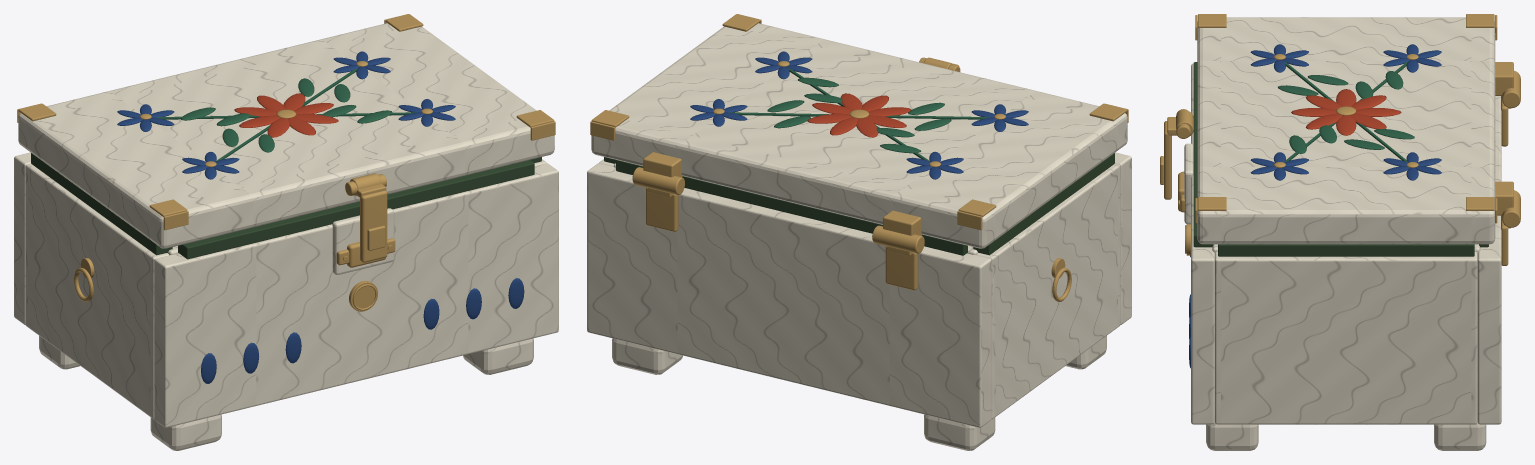
Rendered from india.glb.
3 renders of one model, left to right at view 1: azimuth 30°, elevation 25°; view 2: azimuth 150°, elevation 25°; view 3: azimuth 270°, elevation 25°, orthographic. The views are drawn at different scales.
Visible parts, largest first — view 1: Lid / polished slab, Marble / long wall, Marble / side wall, Mineral seam / long, Marble / long wall.001, Marble foot, Marble foot.002, Mineral seam / side, Marble / clasp seat, Latch / lifting hasp, Medallion / solid emblem, Marble foot.001; view 2: Marble / long wall.001, Lid / polished slab, Marble / side wall, Mineral seam / long.001, Marble / long wall, Marble foot.001, Marble foot.003, Mineral seam / side, Hinge / fixed mount, Hinge / fixed mount.001, Hinge / fixed barrel.001, Hinge / fixed barrel (+3 smaller); view 3: Lid / polished slab, Marble / side wall.001, Marble / long wall.001, Marble / long wall, Mineral seam / side.001, Marble foot.002, Marble foot.003, Mineral seam / long, Marble / clasp seat, Hinge / moving leaf, Latch / lifting hasp, Hinge / moving leaf.001 (+6 smaller).
Boxes of the visible parts, x1,y1,x2,y2 form: Lid / polished slab: (18,23,554,248); Marble / long wall: (154,163,558,427); Marble / side wall: (25,163,168,419); Mineral seam / long: (178,160,534,259); Marble / long wall.001: (14,152,30,325); Marble foot: (150,414,221,450); Marble foot.002: (463,338,533,374); Mineral seam / side: (31,153,172,255); Marble / clasp seat: (332,208,394,274); Latch / lifting hasp: (360,190,387,262); Medallion / solid emblem: (349,281,377,311); Marble foot.001: (39,336,79,369); Marble / long wall.001: (587,163,991,427); Lid / polished slab: (591,23,1127,248); Marble / side wall: (977,163,1120,419); Mineral seam / long.001: (616,160,967,255); Marble / long wall: (1115,152,1131,325); Marble foot.001: (924,414,995,450); Marble foot.003: (612,338,682,374); Mineral seam / side: (973,153,1114,255); Hinge / fixed mount: (885,246,918,290); Hinge / fixed mount.001: (646,187,678,231); Hinge / fixed barrel.001: (632,167,684,195); Hinge / fixed barrel: (872,225,924,253); Lid / polished slab: (1197,17,1495,244); Marble / side wall.001: (1215,251,1477,424); Marble / long wall.001: (1477,96,1501,424); Marble / long wall: (1191,63,1214,424); Mineral seam / side.001: (1218,244,1474,256); Marble foot.002: (1206,422,1258,450); Marble foot.003: (1434,423,1486,450); Mineral seam / long: (1193,62,1213,247); Marble / clasp seat: (1184,143,1193,224); Hinge / moving leaf: (1495,62,1513,95); Latch / lifting hasp: (1164,121,1171,199); Hinge / moving leaf.001: (1495,181,1513,215).
Size of the model in its own units: 3.79 by 2.24 by 2.88.
6 materials, 1 textured.
